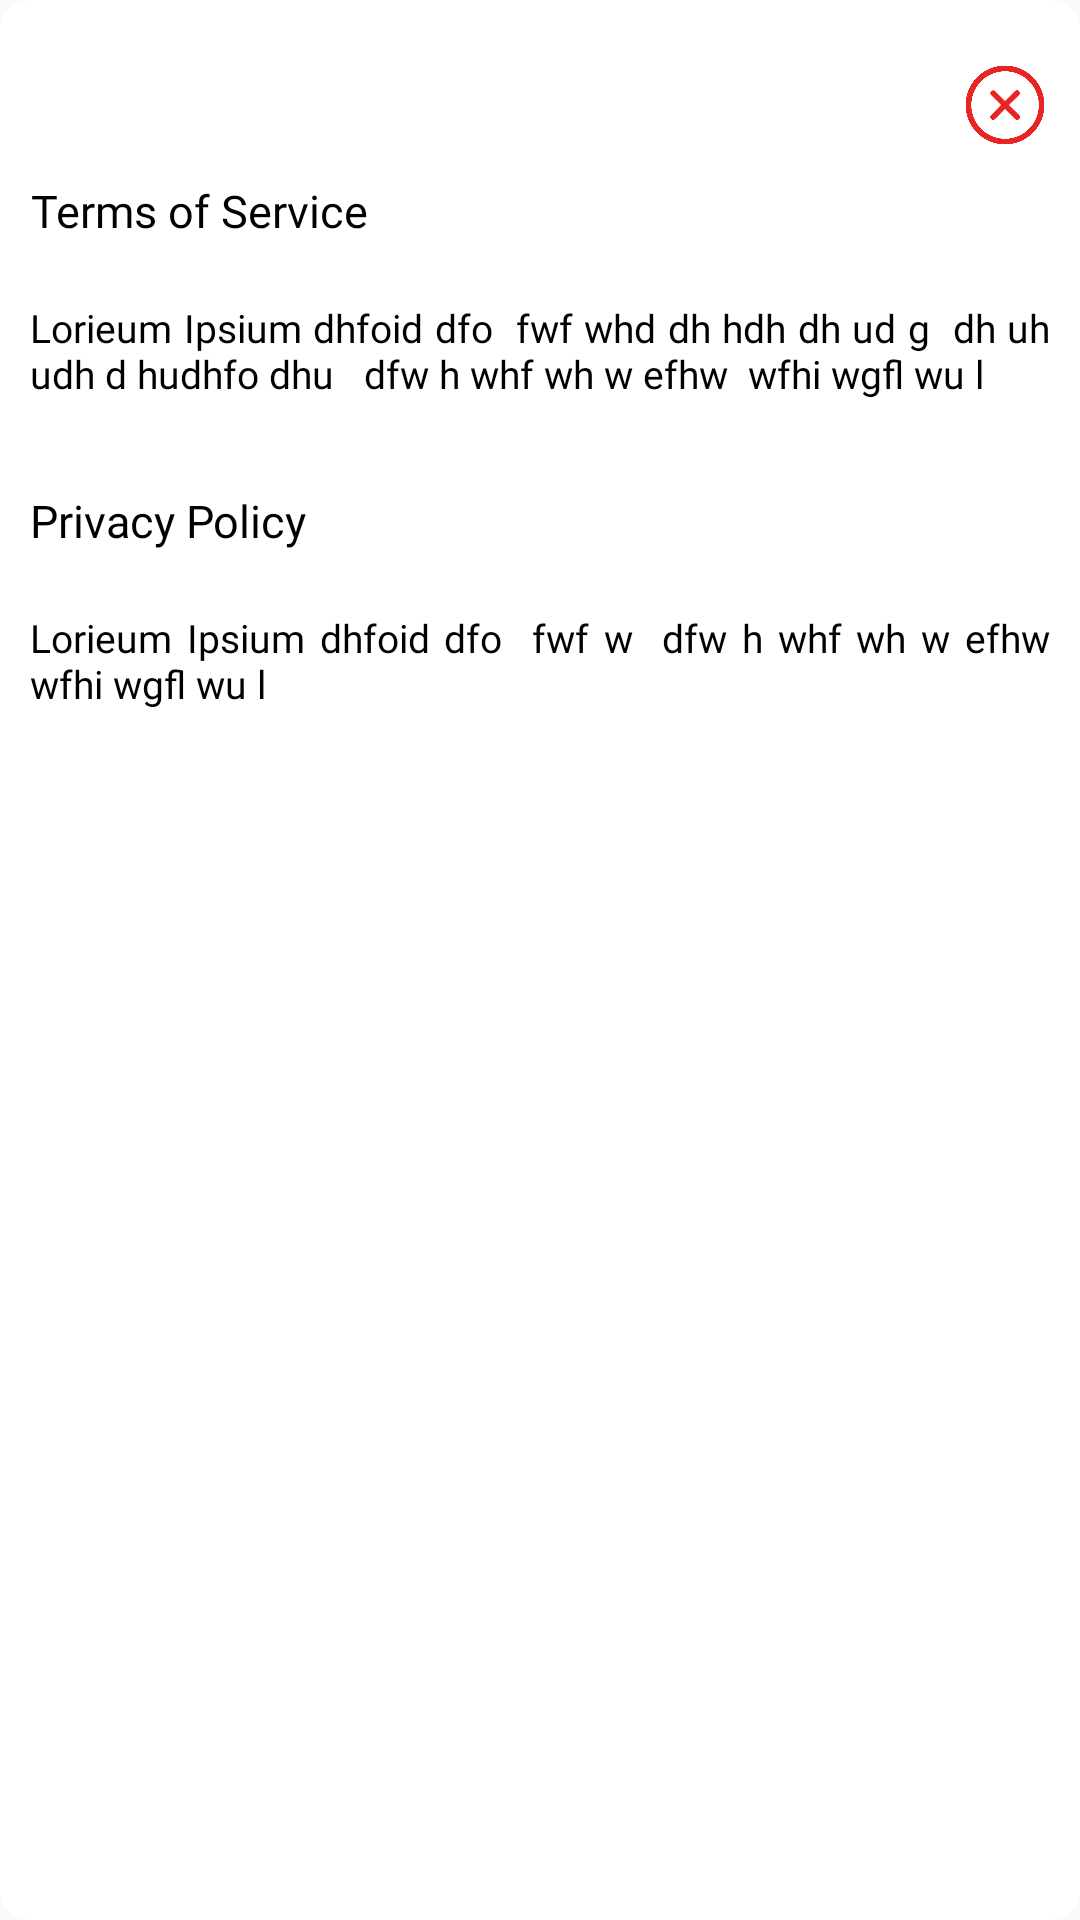

Point at icon controls on the screen. Image size 1080 x 1920, points as (x,y).
close: (1005,105)
